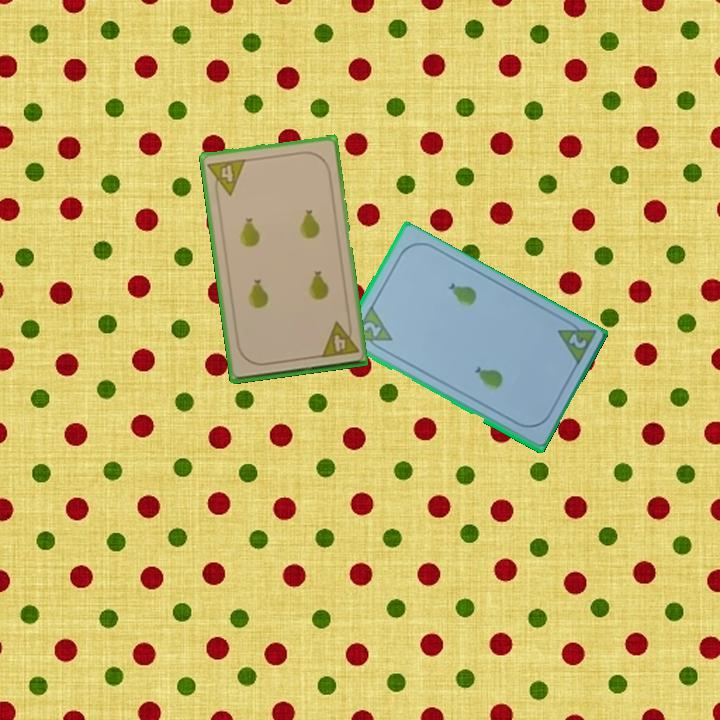2p: (359, 318, 384, 340), (564, 330, 589, 352)
4p: (204, 155, 249, 200), (317, 317, 361, 361)
